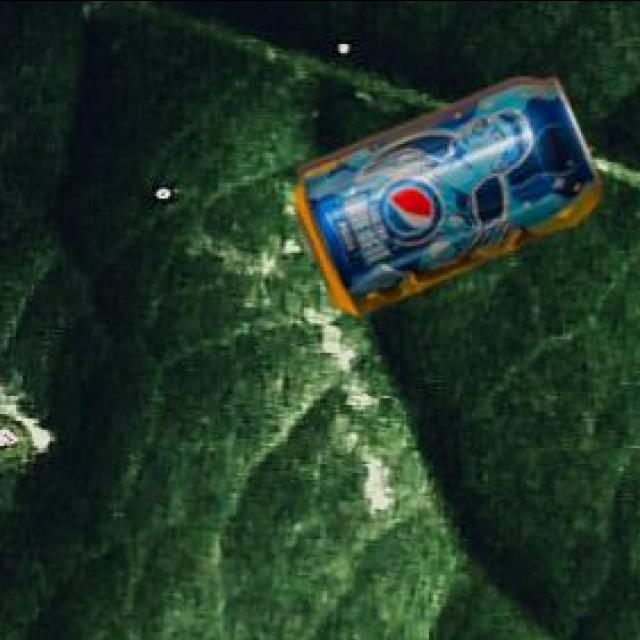logam: (298, 74, 603, 310)
